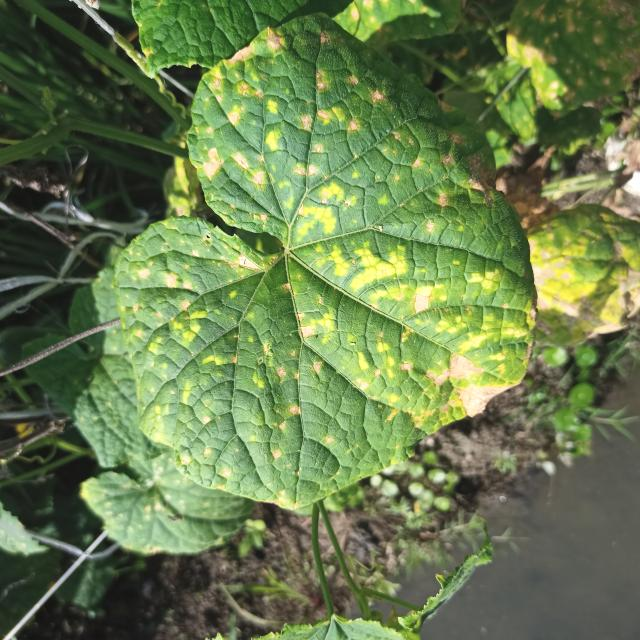disease_cucumber: (115, 32, 530, 467)
